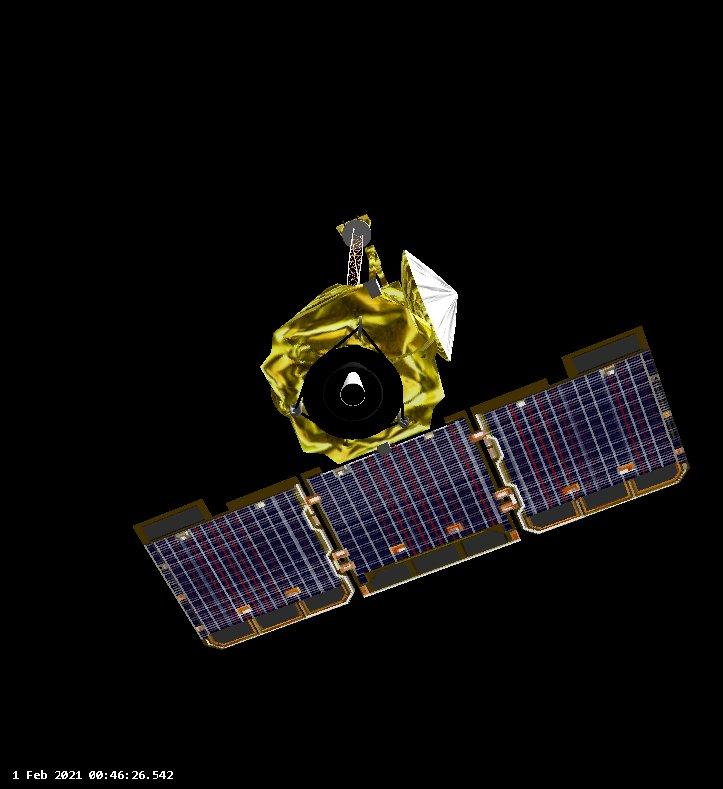antenna: (399, 244, 463, 364), (334, 211, 371, 293)
body: (258, 282, 447, 466)
solar: (129, 327, 691, 652)
thruster: (338, 367, 368, 411)
